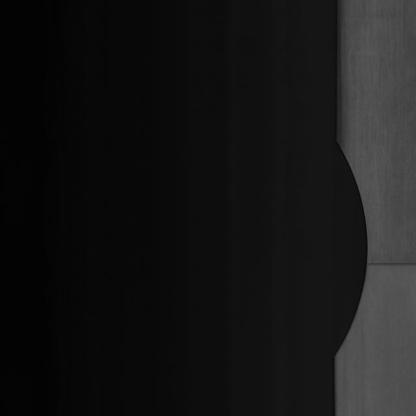crescent_gap: (319, 132, 377, 364)
welding_line: (358, 235, 416, 278)
